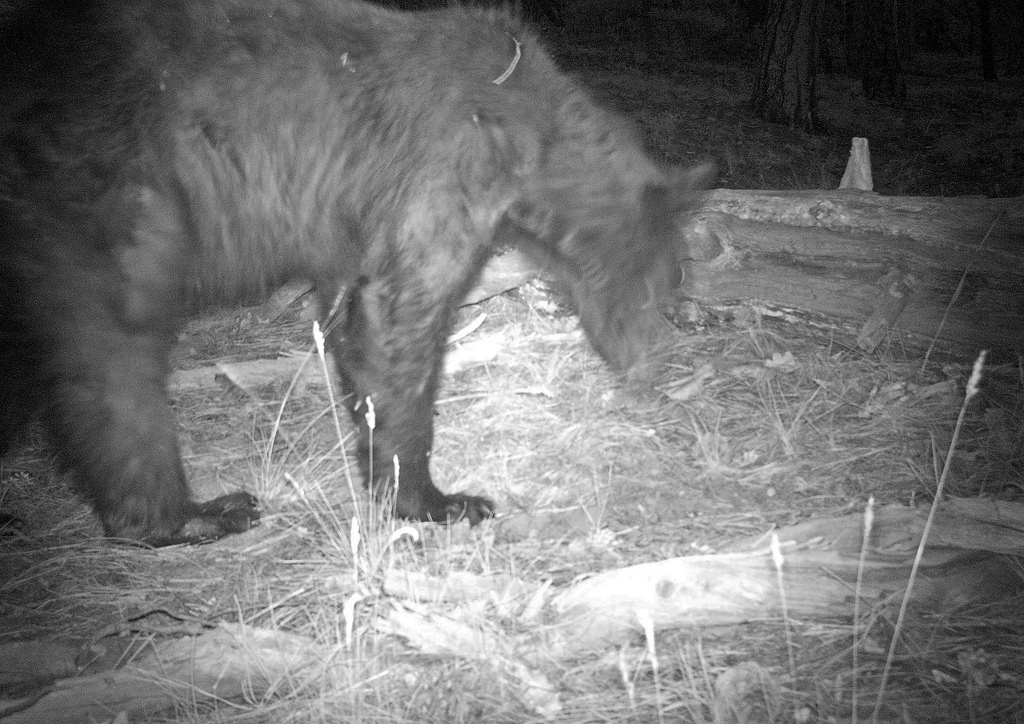bear: (1, 1, 787, 588)
